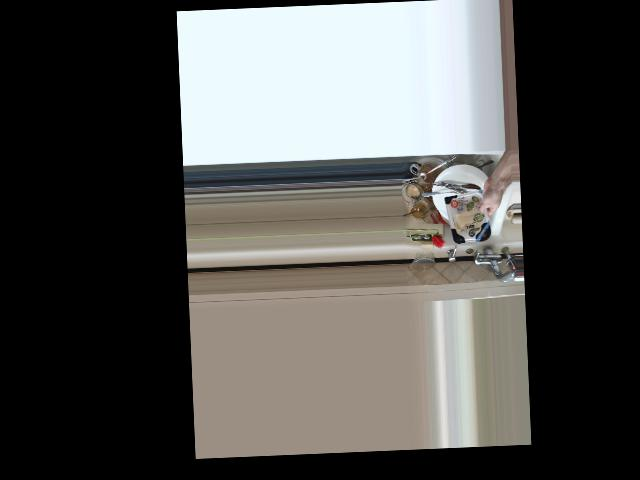cheese: (445, 181, 504, 247)
